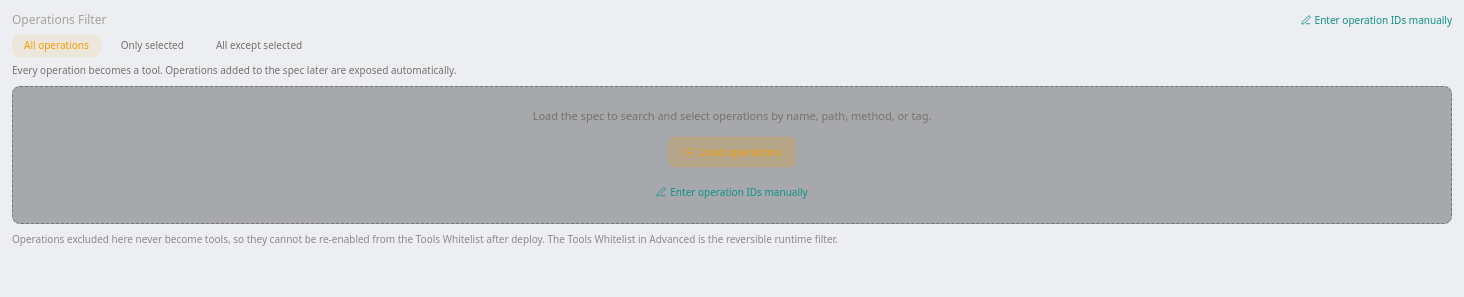
Test: OperationsPicker › badges deprecated operations
Click the button with aria-label "load operations from the openapi spec" at (732, 152), box 669,137 -> 796,167
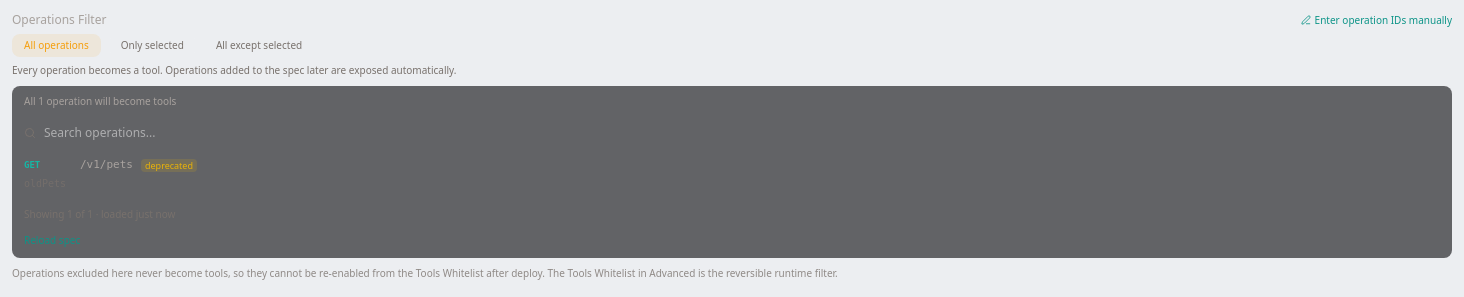
Check: the text "deprecated" is shown, box 141,158 -> 197,172
